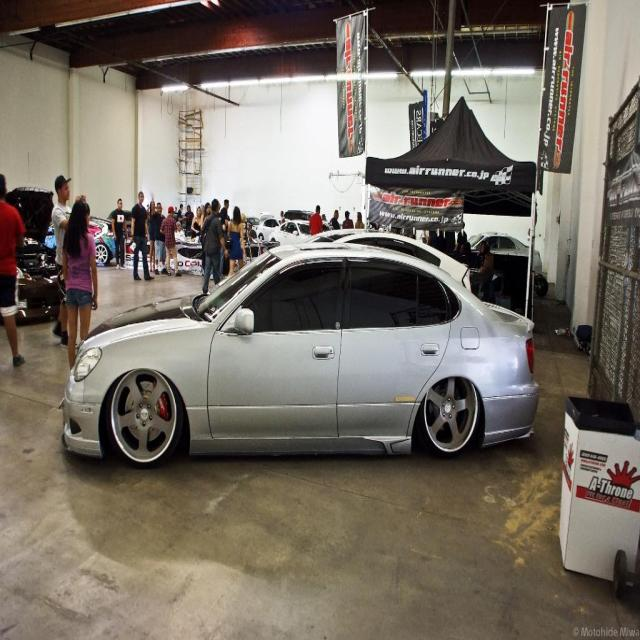car: (58, 229, 538, 464)
